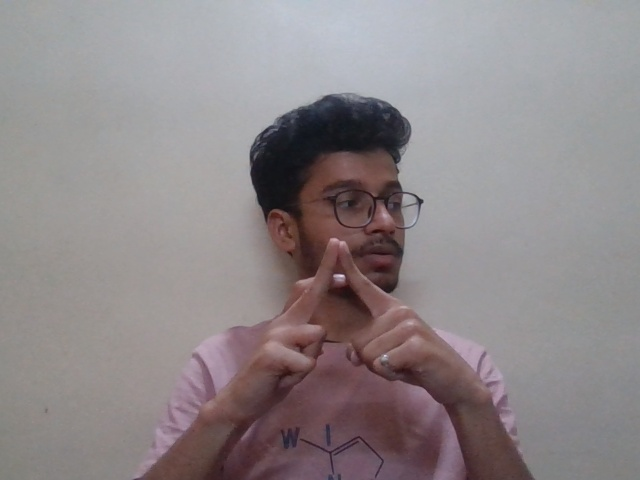A: (205, 231, 520, 432)
